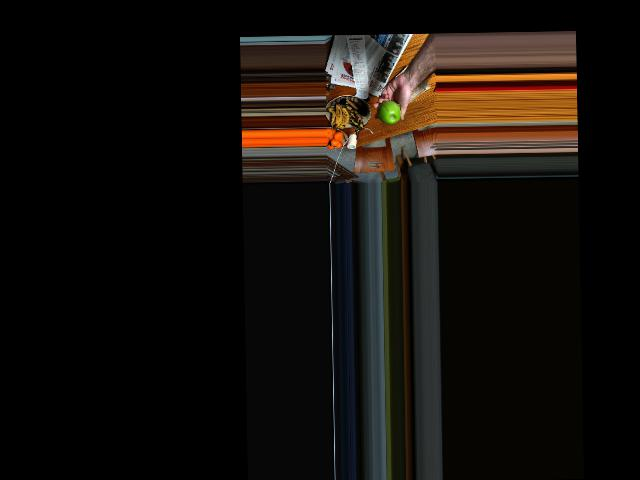apple: (376, 100, 402, 126)
